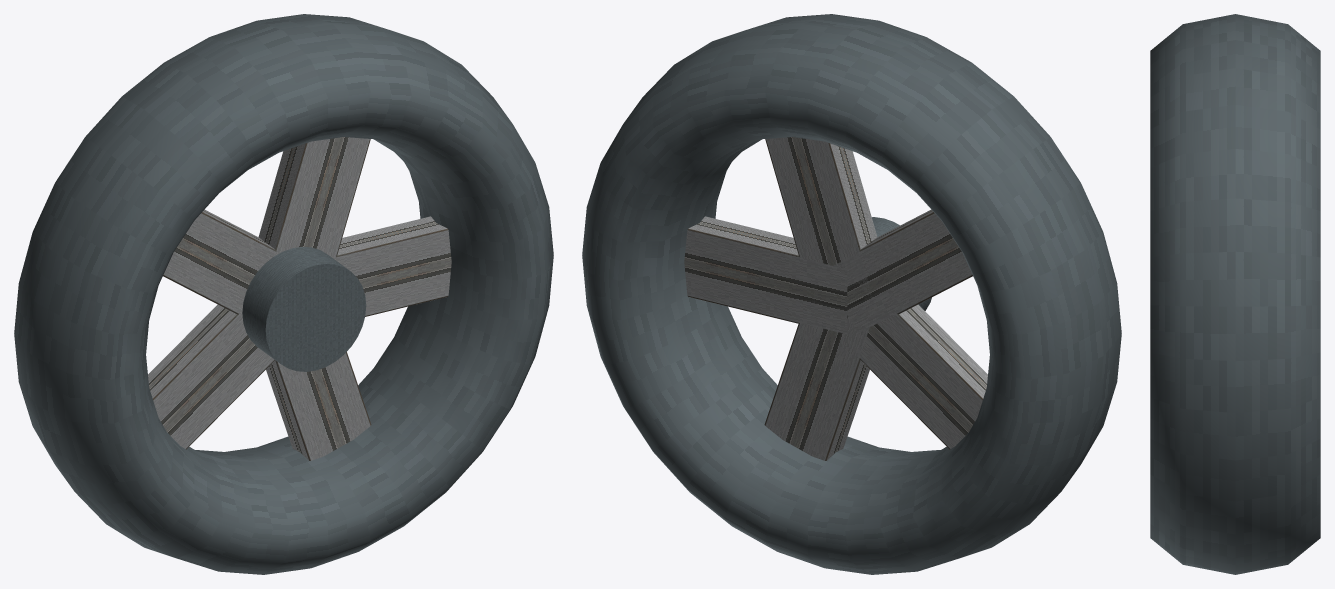
File: extractor.glb
3 views of the same model, side by side, from view 1: azimuth 30°, elevation 25°; view 2: azimuth 150°, elevation 25°; view 3: azimuth 270°, elevation 25° (orthographic). The views are drawn at different scales.
Visible parts, largest first — view 1: rim, blade (×5), hub; view 2: rim, blade (×5); view 3: rim.
Boxes of the visible parts, x1,y1,x2,y2 form: rim: (14,14,553,574); blade (×5): (148,137,451,460); hub: (242,246,366,371); rim: (582,14,1121,574); blade (×5): (684,137,987,460); rim: (1150,14,1320,574).
Bounding box in the file's own units: 0.36 × 0.36 × 0.1092.
Materials: 2 (2 with a texture image).
